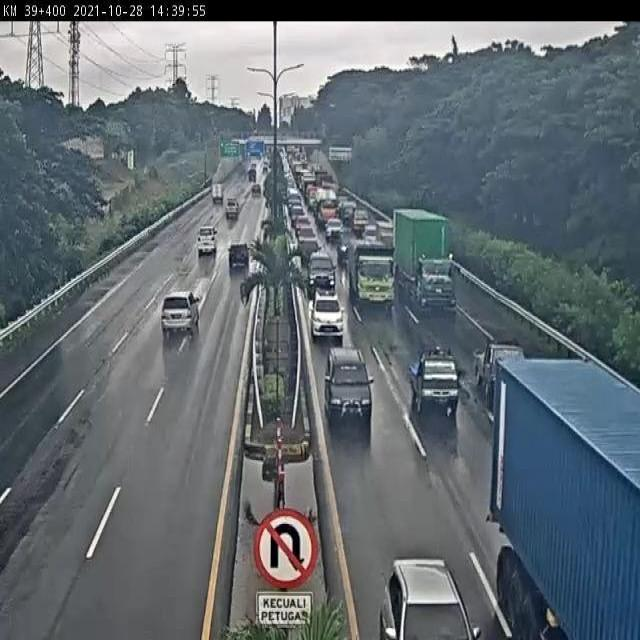big truck: (394, 207, 455, 312), (346, 243, 394, 304)
car: (323, 346, 372, 418), (411, 346, 460, 414), (472, 338, 521, 393), (311, 287, 343, 336), (162, 296, 199, 335), (307, 251, 336, 289), (227, 241, 252, 268), (196, 227, 218, 256), (338, 232, 357, 263), (298, 234, 319, 262), (223, 200, 238, 224)
